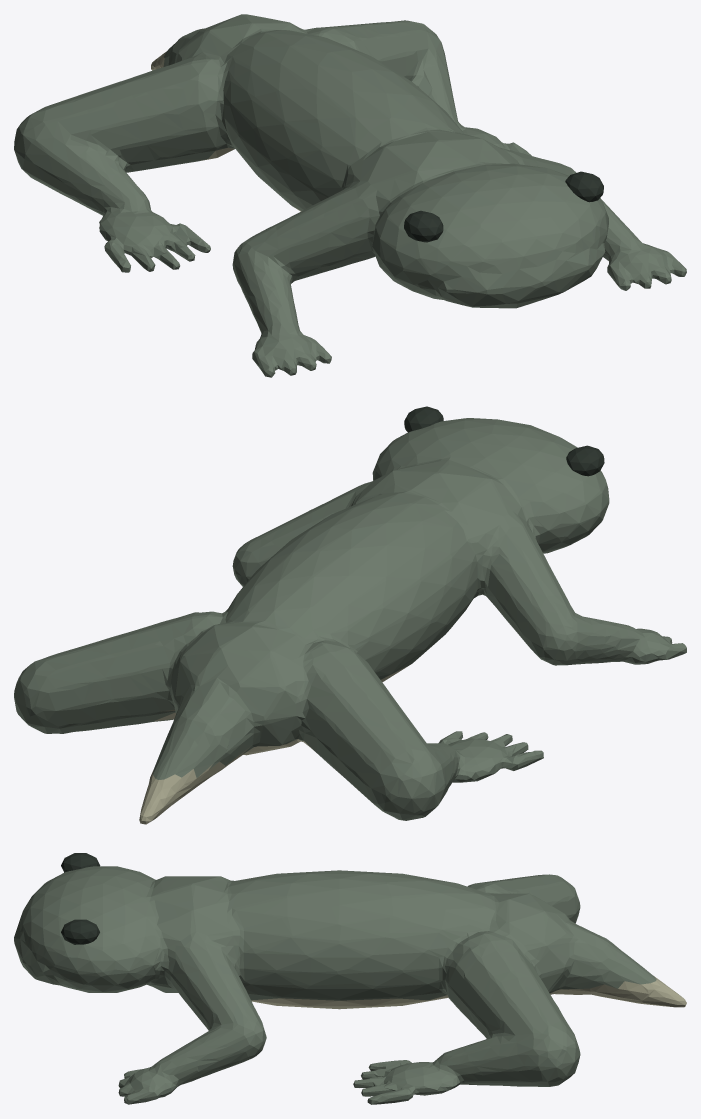
The picture shows the model from 3 angles, top to bottom: view 1: azimuth 30°, elevation 25°; view 2: azimuth 150°, elevation 25°; view 3: azimuth 270°, elevation 25°; orthographic projection. The views are drawn at different scales.
Parts seen in each view (by area): view 1: Triadobatrachus continuous skin, understated eye, understated eye.001; view 2: Triadobatrachus continuous skin, understated eye, understated eye.001; view 3: Triadobatrachus continuous skin, understated eye.001, understated eye.
Boxes of the visible parts, bbox=[...] form: Triadobatrachus continuous skin: bbox=[14, 14, 686, 377]; understated eye: bbox=[404, 210, 443, 242]; understated eye.001: bbox=[565, 171, 603, 202]; Triadobatrachus continuous skin: bbox=[14, 418, 686, 824]; understated eye: bbox=[566, 445, 604, 476]; understated eye.001: bbox=[404, 406, 443, 432]; Triadobatrachus continuous skin: bbox=[14, 866, 686, 1104]; understated eye.001: bbox=[61, 919, 99, 944]; understated eye: bbox=[61, 853, 100, 872].
Bounding box in the file's own units: 0.0736 × 0.028 × 0.1196.
